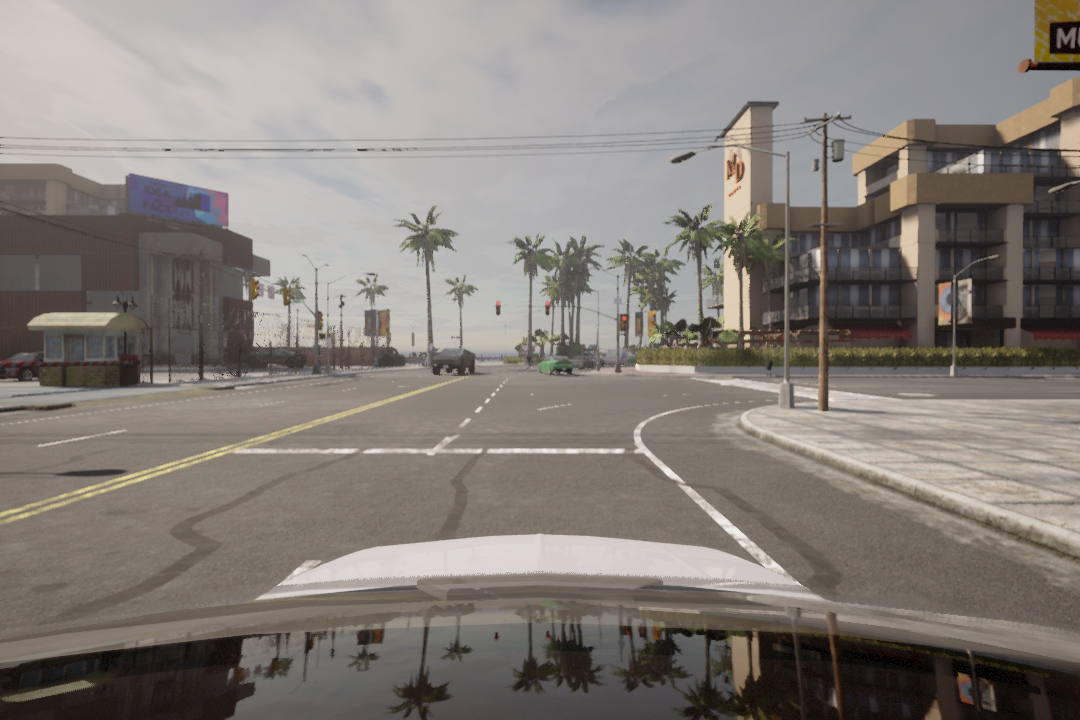TrafficLight: (494, 301, 503, 317), (544, 301, 551, 317)
